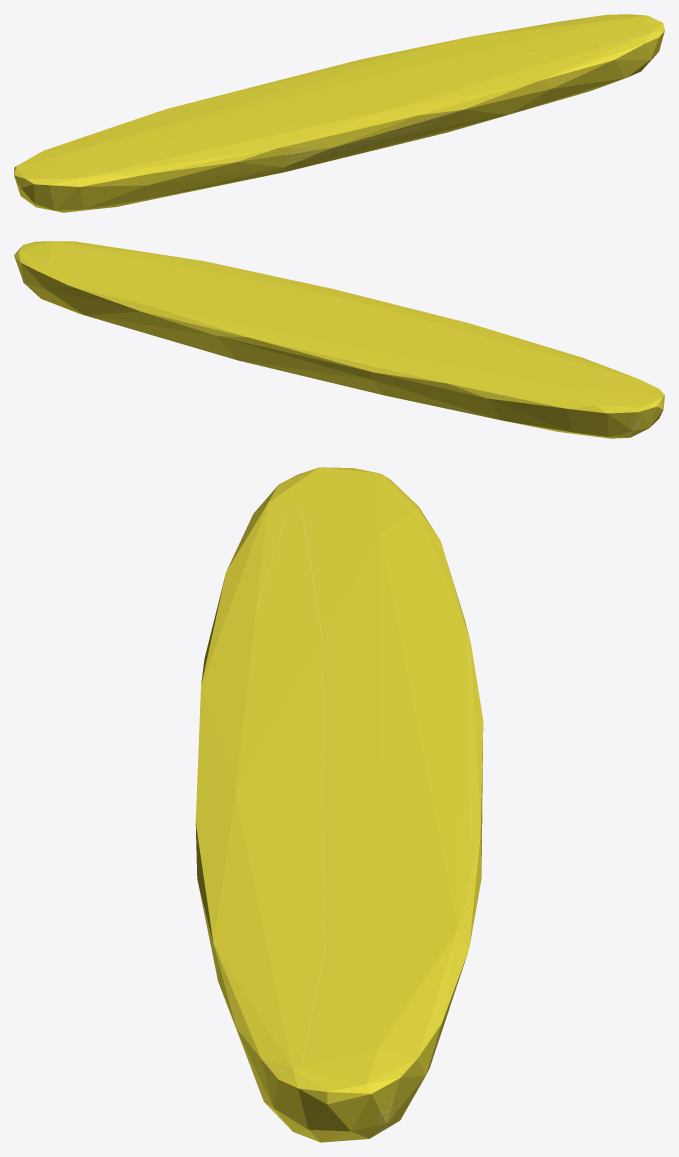
The model's file is yut-regular.glb.
The picture shows the model from 3 angles, top to bottom: view 1: azimuth 30°, elevation 25°; view 2: azimuth 150°, elevation 25°; view 3: azimuth 270°, elevation 25°; orthographic projection. The views are drawn at different scales.
Parts seen in each view (by area): view 1: Cube.001; view 2: Cube.001; view 3: Cube.001.
Part boxes in pixels (x1=…): Cube.001: x1=14, y1=14, x2=664, y2=212; Cube.001: x1=14, y1=241, x2=664, y2=438; Cube.001: x1=195, y1=467, x2=483, y2=1142.
Size of the model in its own units: 12.55 by 0.9039 by 2.44.
1 material, 1 textured.
